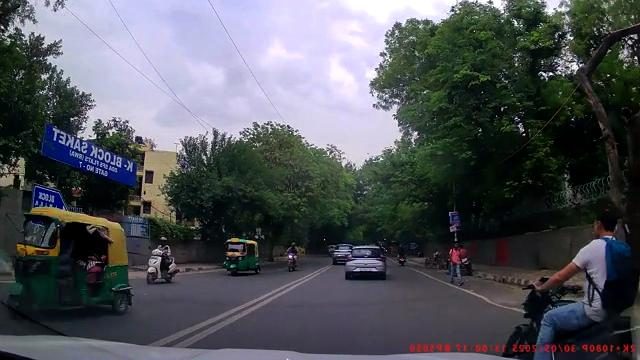motorcycle_with_helmet: (145, 236, 178, 284), (284, 242, 301, 273)
motorcycle_without_helmet: (501, 205, 639, 359)
